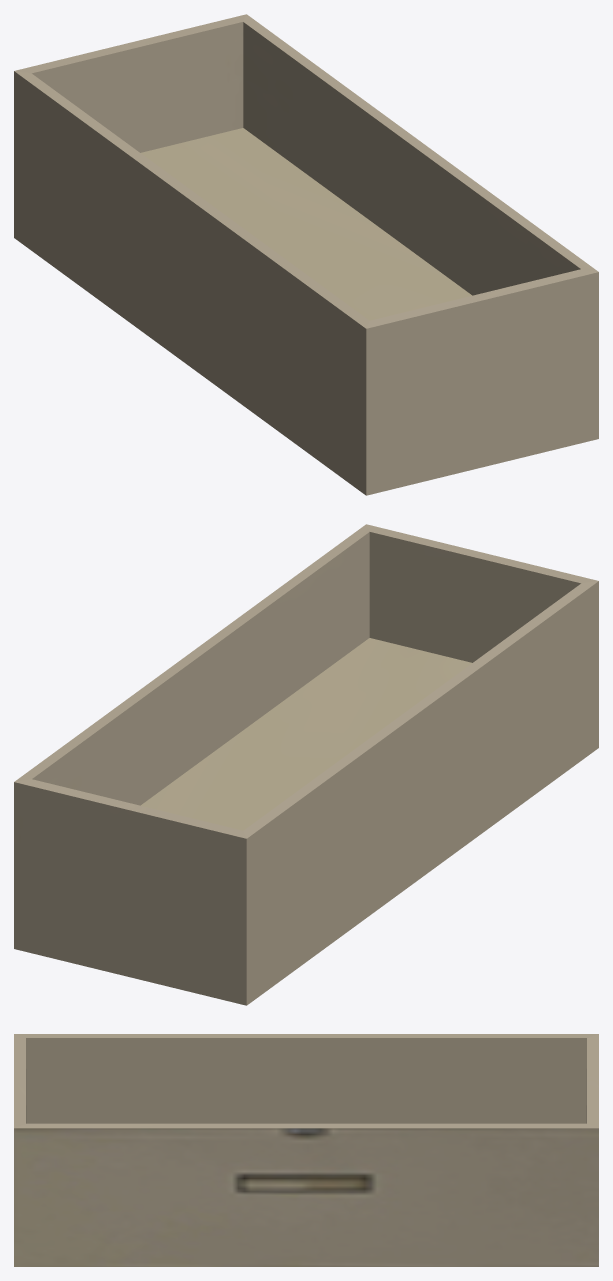
The model's file is FileCabinetDrawer.fbx.
3 views of the same model, one above another, from view 1: azimuth 30°, elevation 25°; view 2: azimuth 150°, elevation 25°; view 3: azimuth 270°, elevation 25° (orthographic). The views are drawn at different scales.
Parts seen in each view (by area): view 1: Cube.169; view 2: Cube.169; view 3: Cube.169.
Part boxes in pixels (box(x1,y1,x2,y2)): Cube.169: box(14, 14, 598, 495); Cube.169: box(14, 524, 598, 1005); Cube.169: box(14, 1034, 598, 1266).
Bounding box in the file's own units: 3.56 × 2.45 × 9.34.
